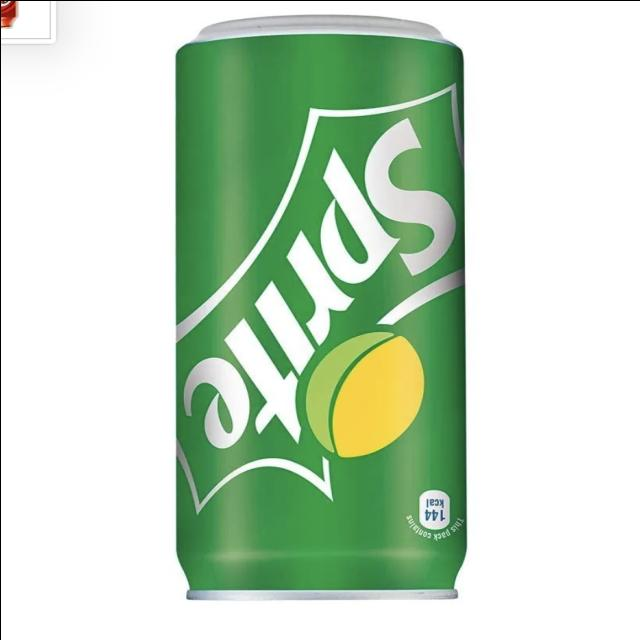can: (131, 3, 525, 630)
